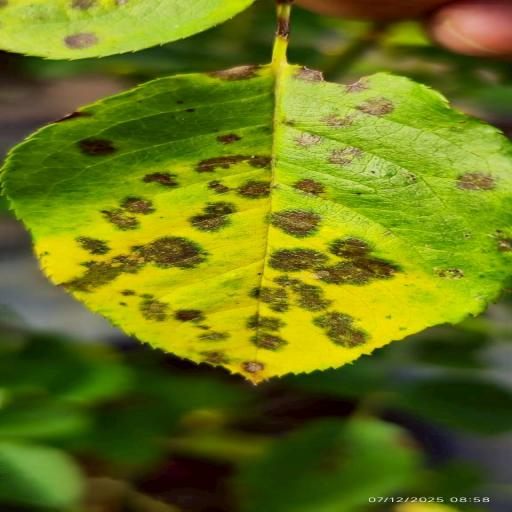black_spot: (4, 38, 510, 382)
